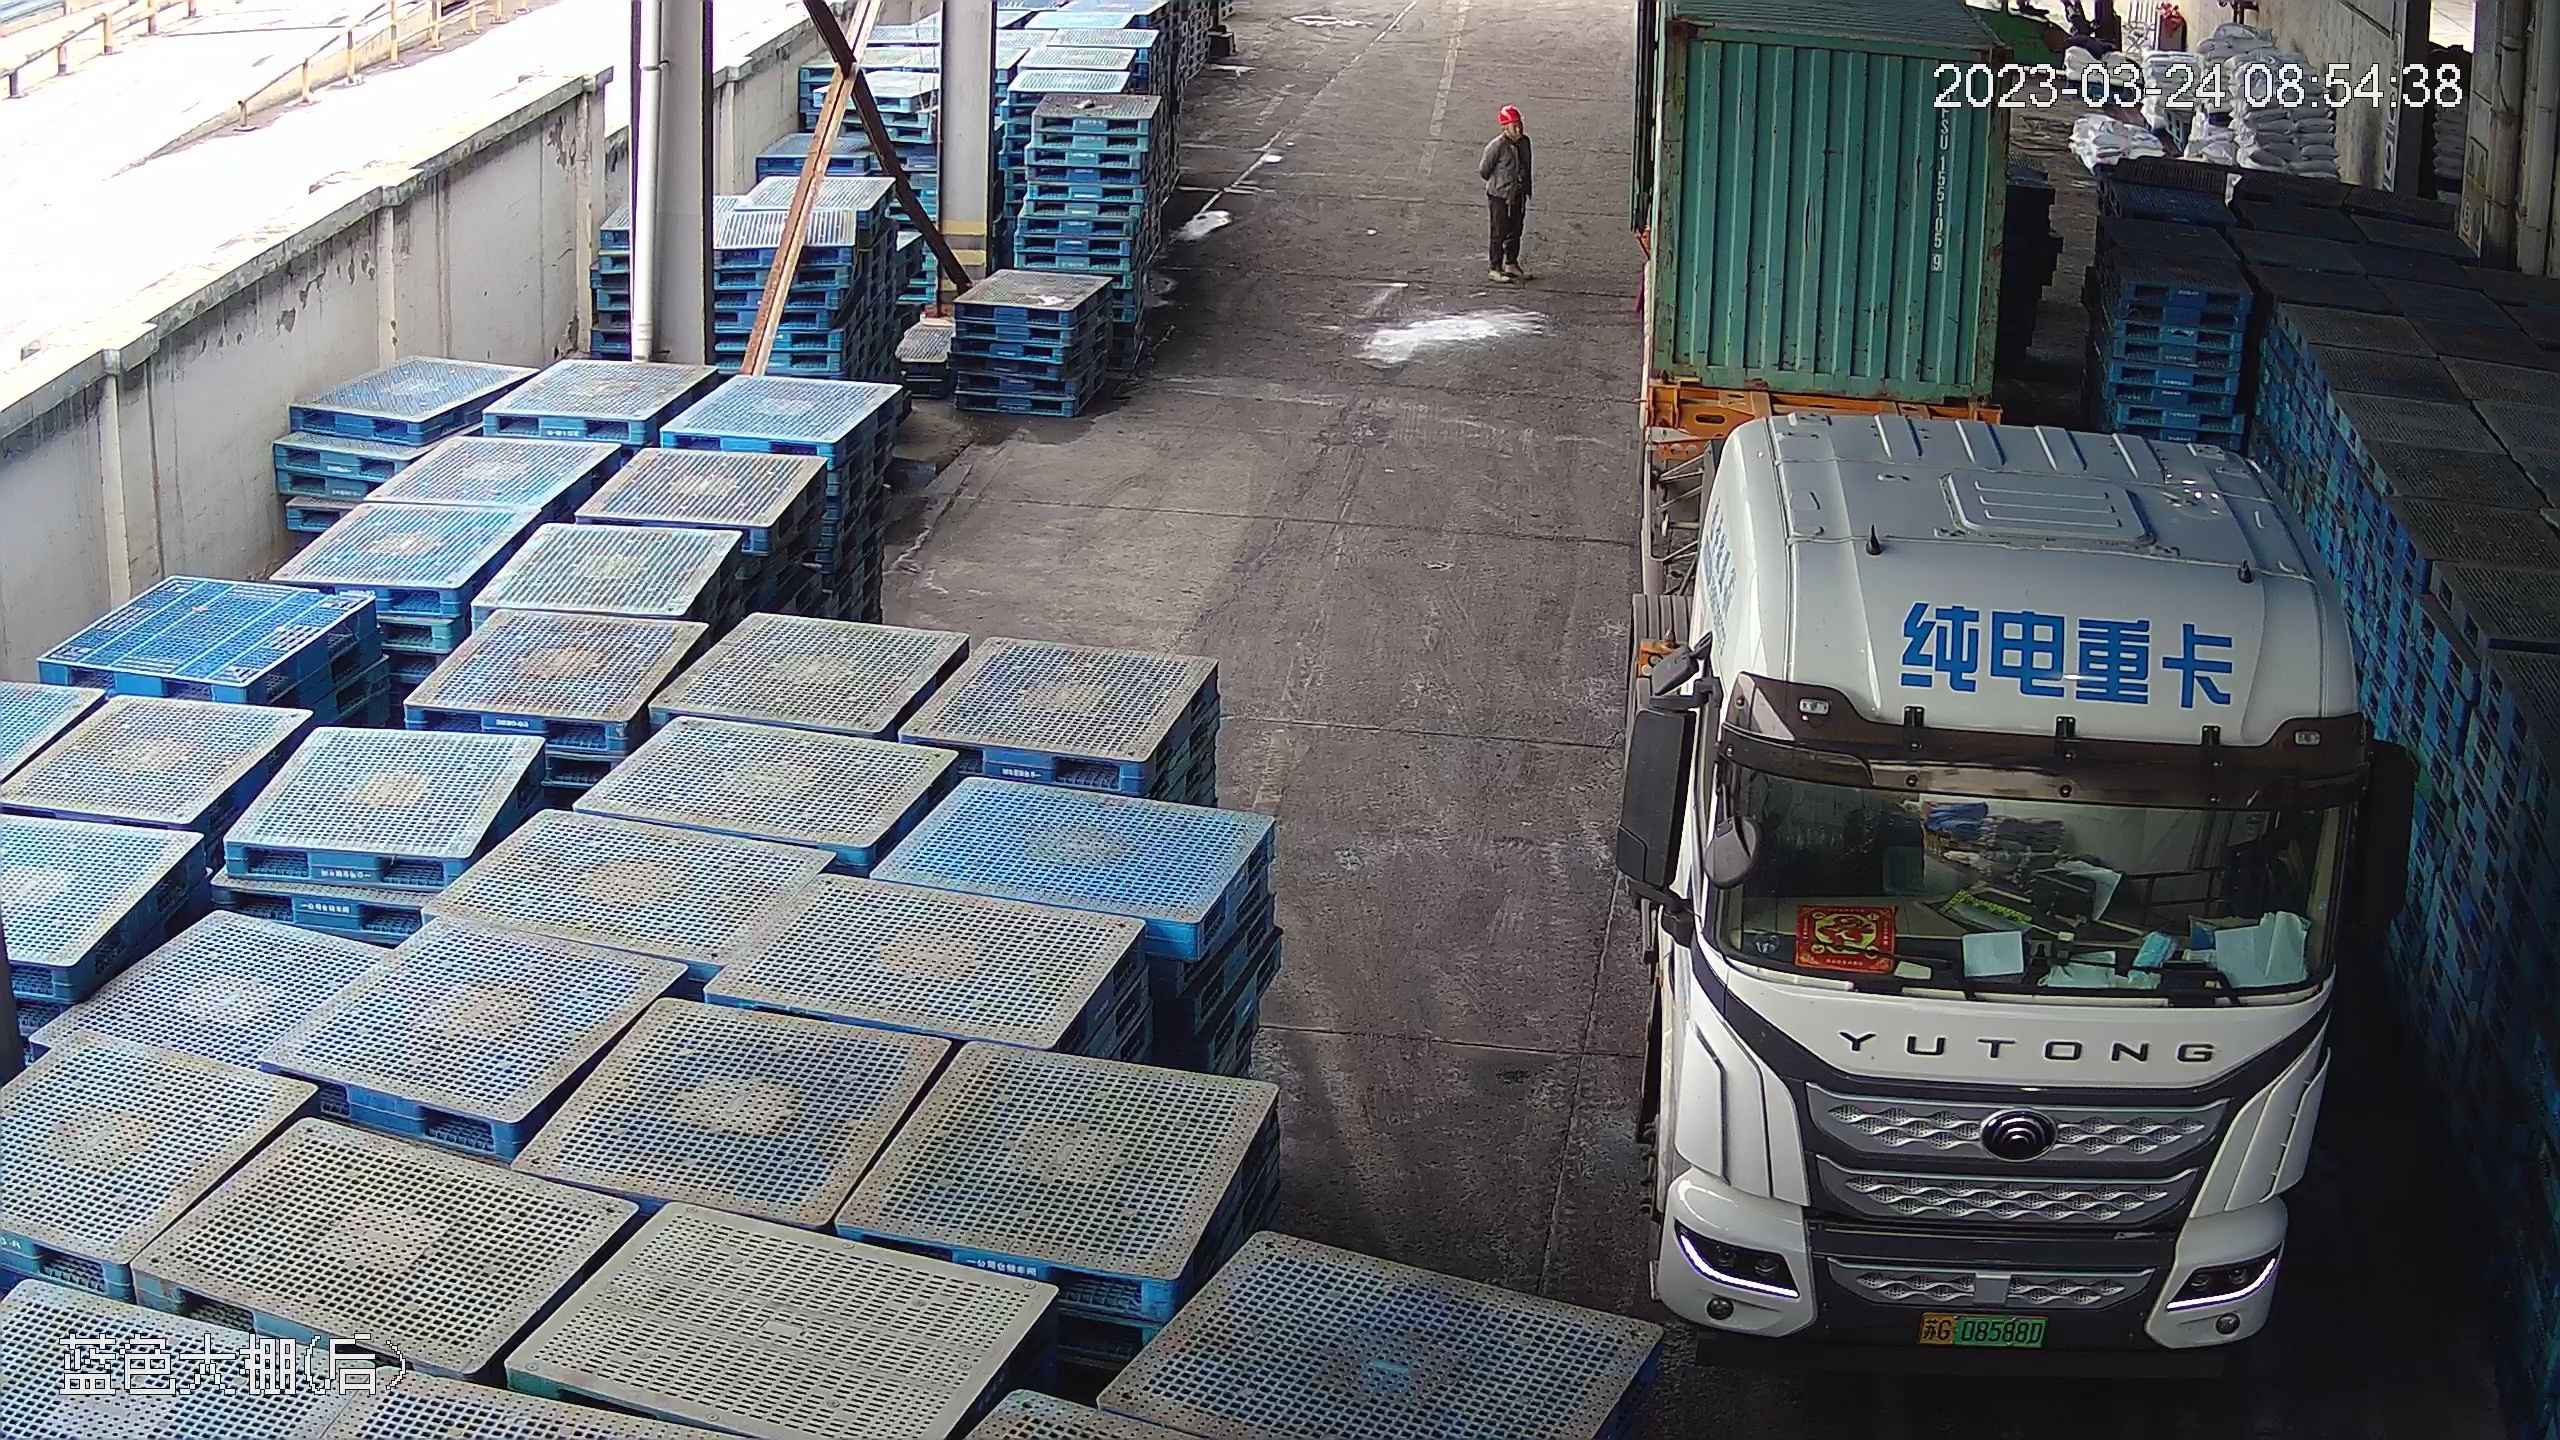head: (1485, 102, 1534, 161)
helmet: (1498, 103, 1524, 123)
people: (1476, 99, 1539, 280)
truck: (1599, 0, 2460, 1407)
